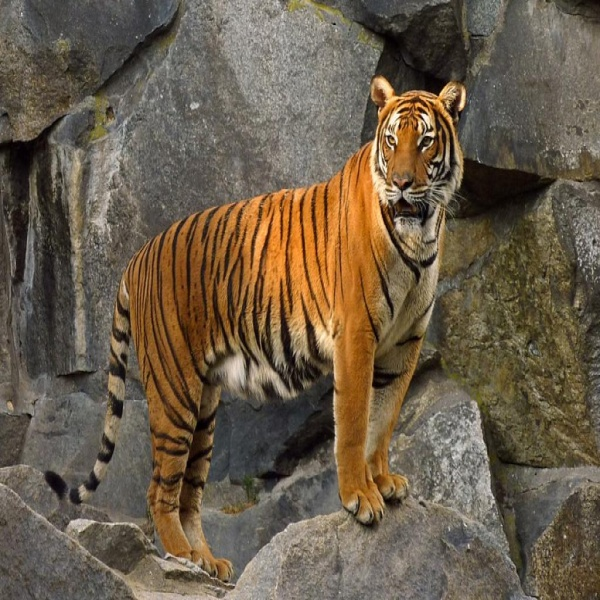Tiger: (46, 70, 472, 585)
